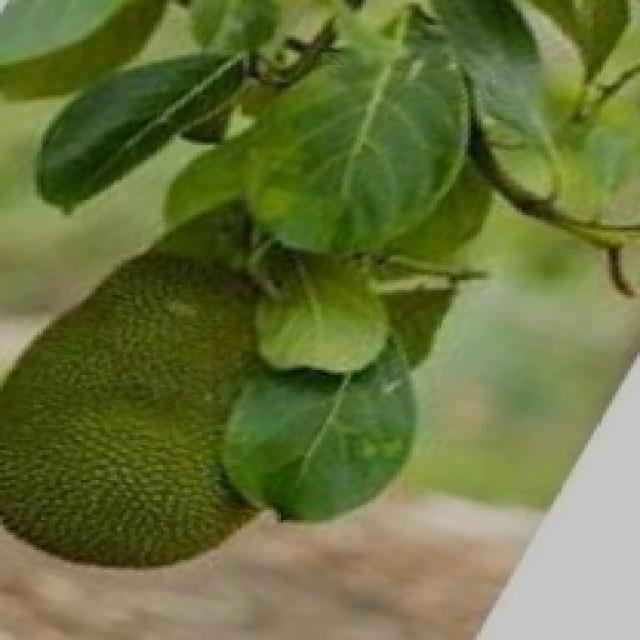Fruit: (0, 210, 397, 598)
